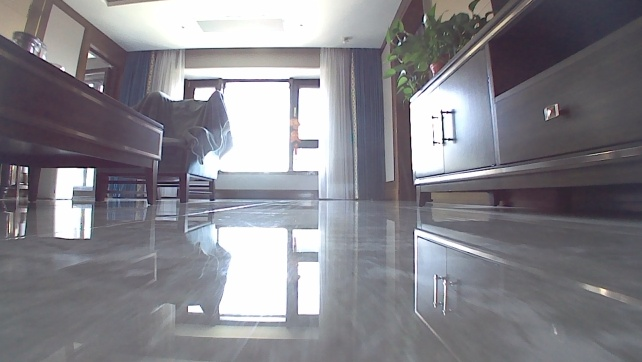TV_stand1: (405, 0, 641, 207)
sofa: (124, 85, 232, 201)
tea_table: (0, 34, 165, 205)
